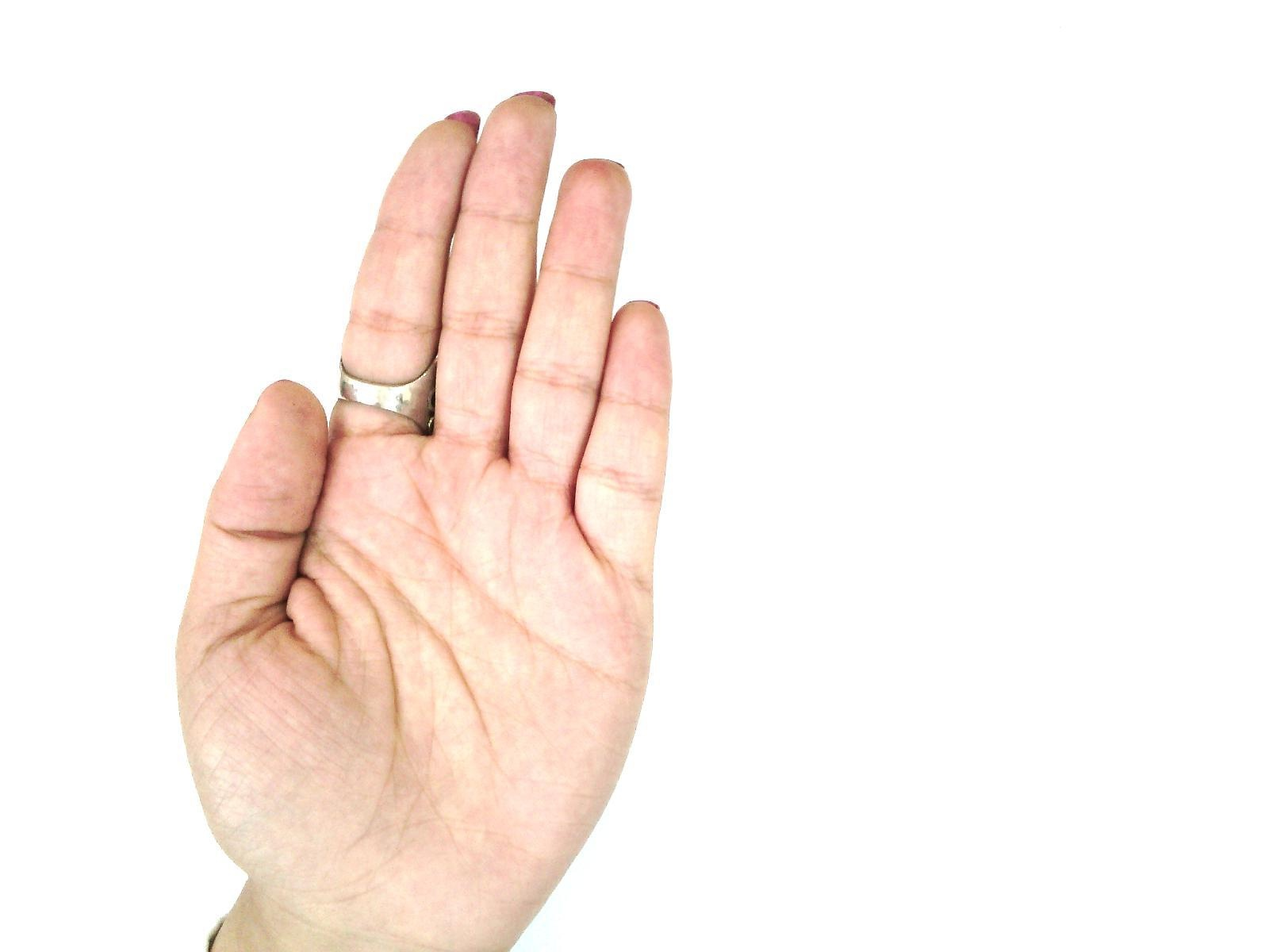open_palm: (173, 90, 677, 950)
